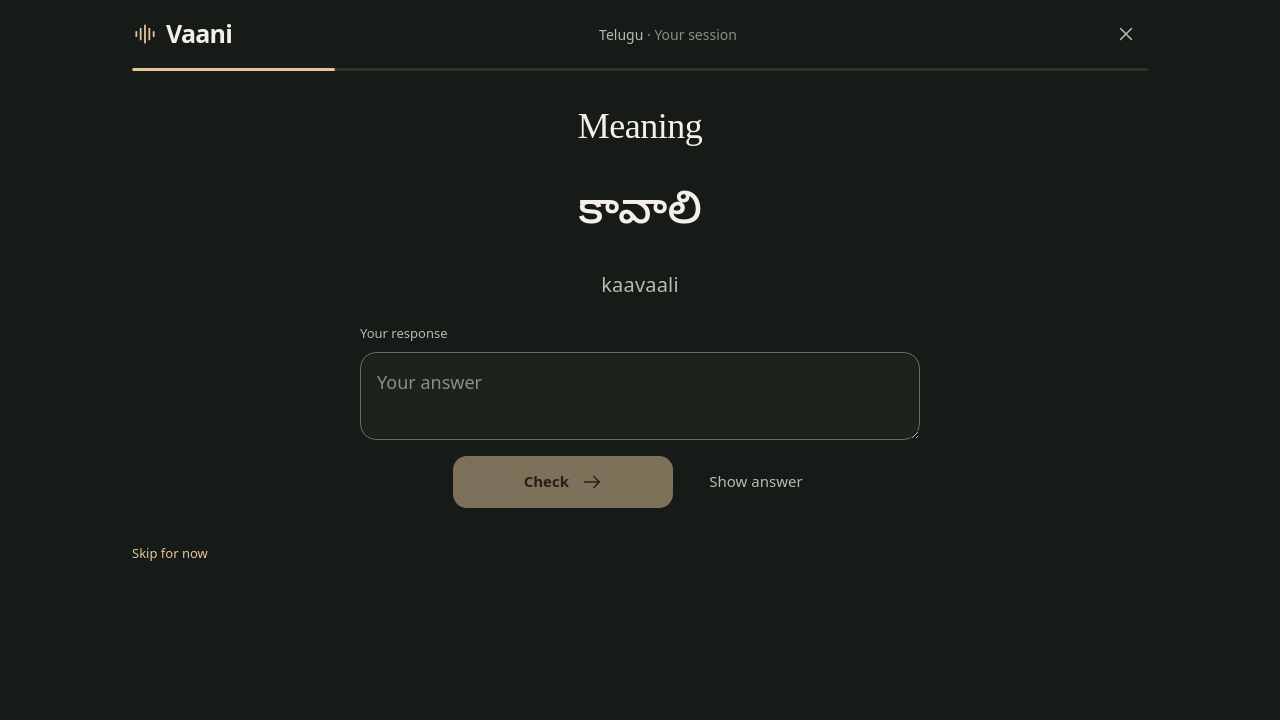
consumer learning interactions › reveals the localized answer only after asking for help
The width and height of the screenshot is (1280, 720).
Check: the text box labelled "Your response" is shown, box [360,352,920,440]
Check: the text "want / need" is not shown
Click the button with aria-label "Reveal meaning / romanization".
click(756, 482)  # box [685,456,827,508]
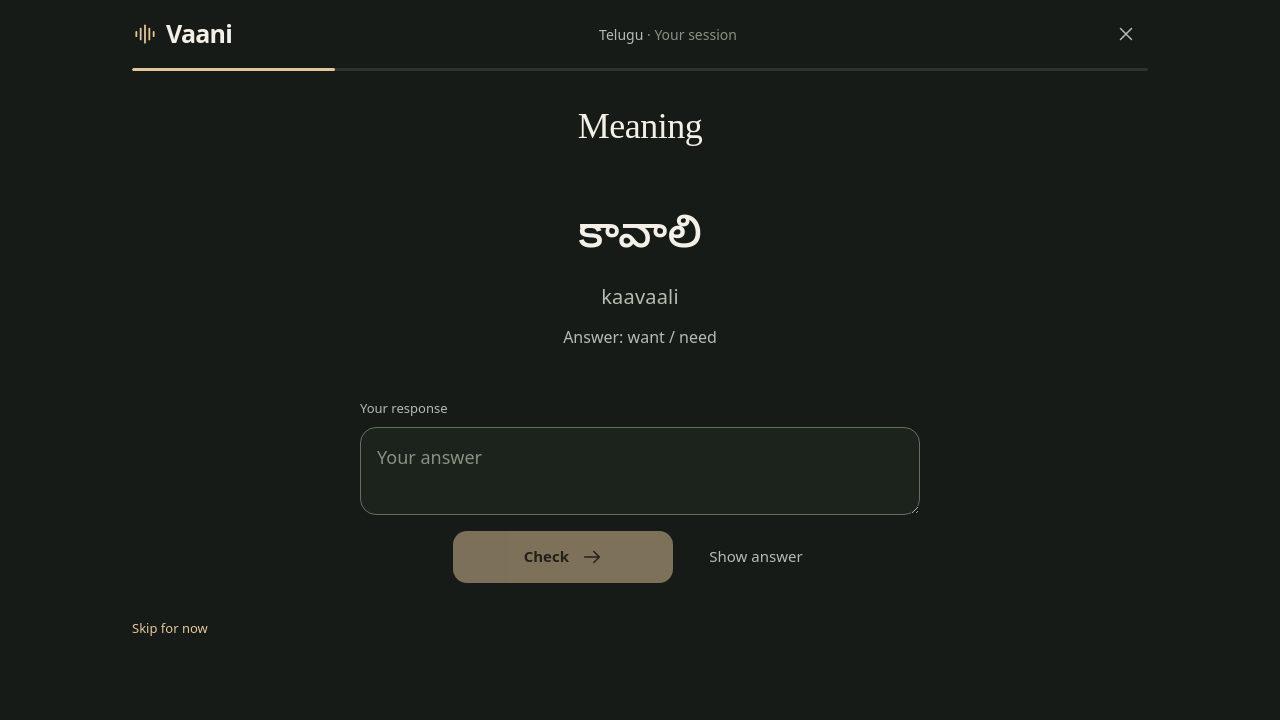
Check: the text "Answer: want / need" is shown, box [563,326,717,348]
